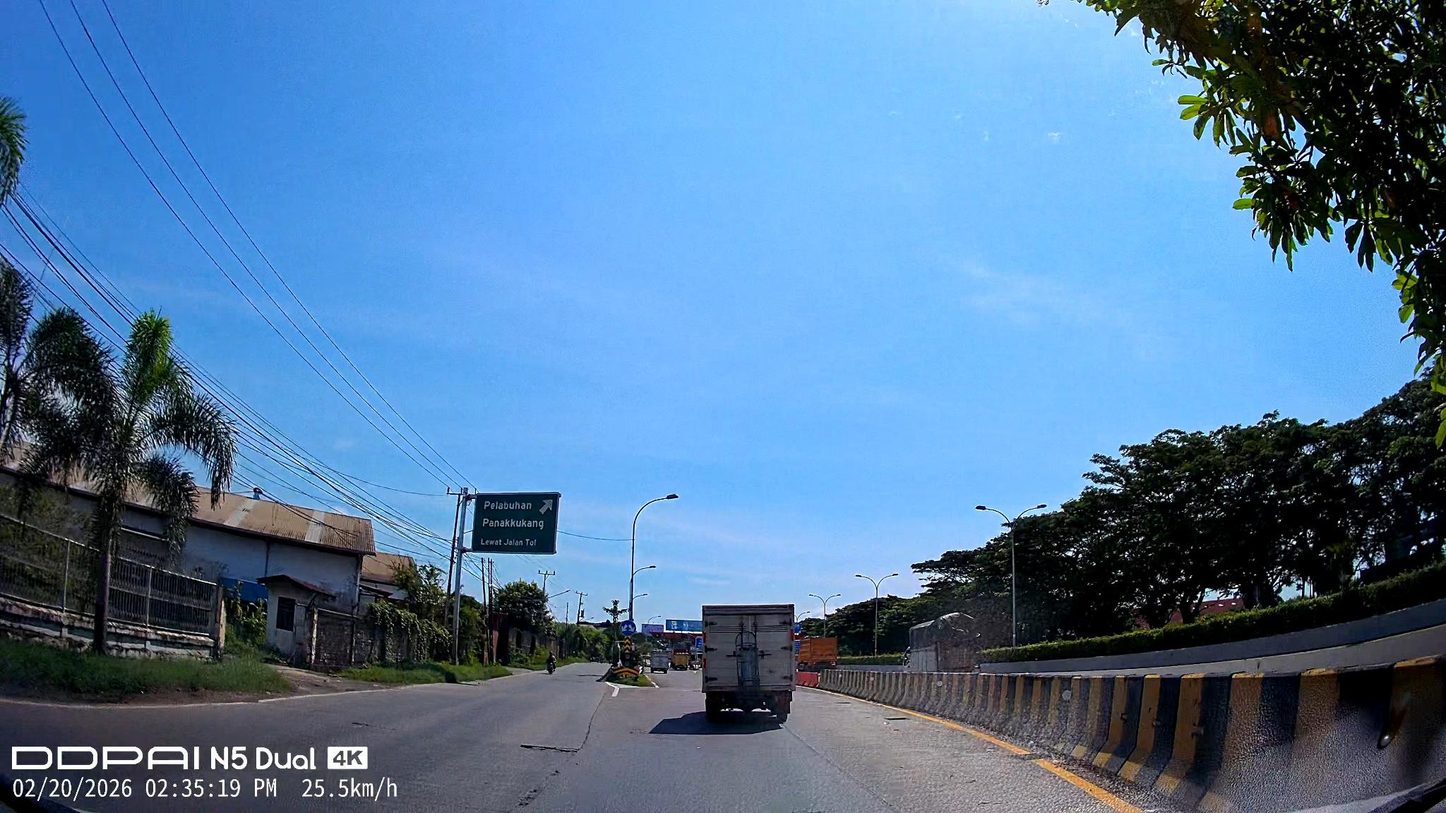rambu_teks: (470, 492, 562, 555)
